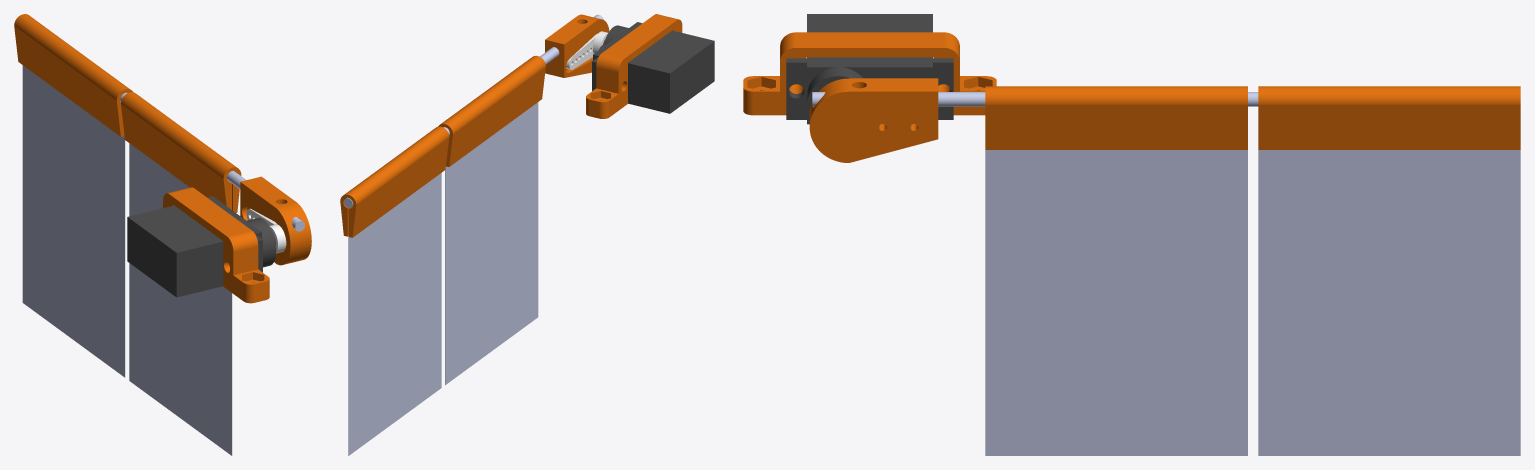
The model's file is Flag v1.fbx.
The picture shows the model from 3 angles, left to right: view 1: azimuth 30°, elevation 25°; view 2: azimuth 150°, elevation 25°; view 3: azimuth 270°, elevation 25°; orthographic projection. The views are drawn at different scales.
Parts seen in each view (by area): view 1: Body1 (×9); view 2: Body1 (×8); view 3: Body1 (×8).
Part boxes in pixels (left/top/right/bottom): Body1 (×9): left=14, top=14, right=311, bottom=455; Body1 (×8): left=340, top=14, right=714, bottom=455; Body1 (×8): left=743, top=14, right=1520, bottom=455.
Bounding box in the file's own units: 38.3 × 78.7 × 148.
